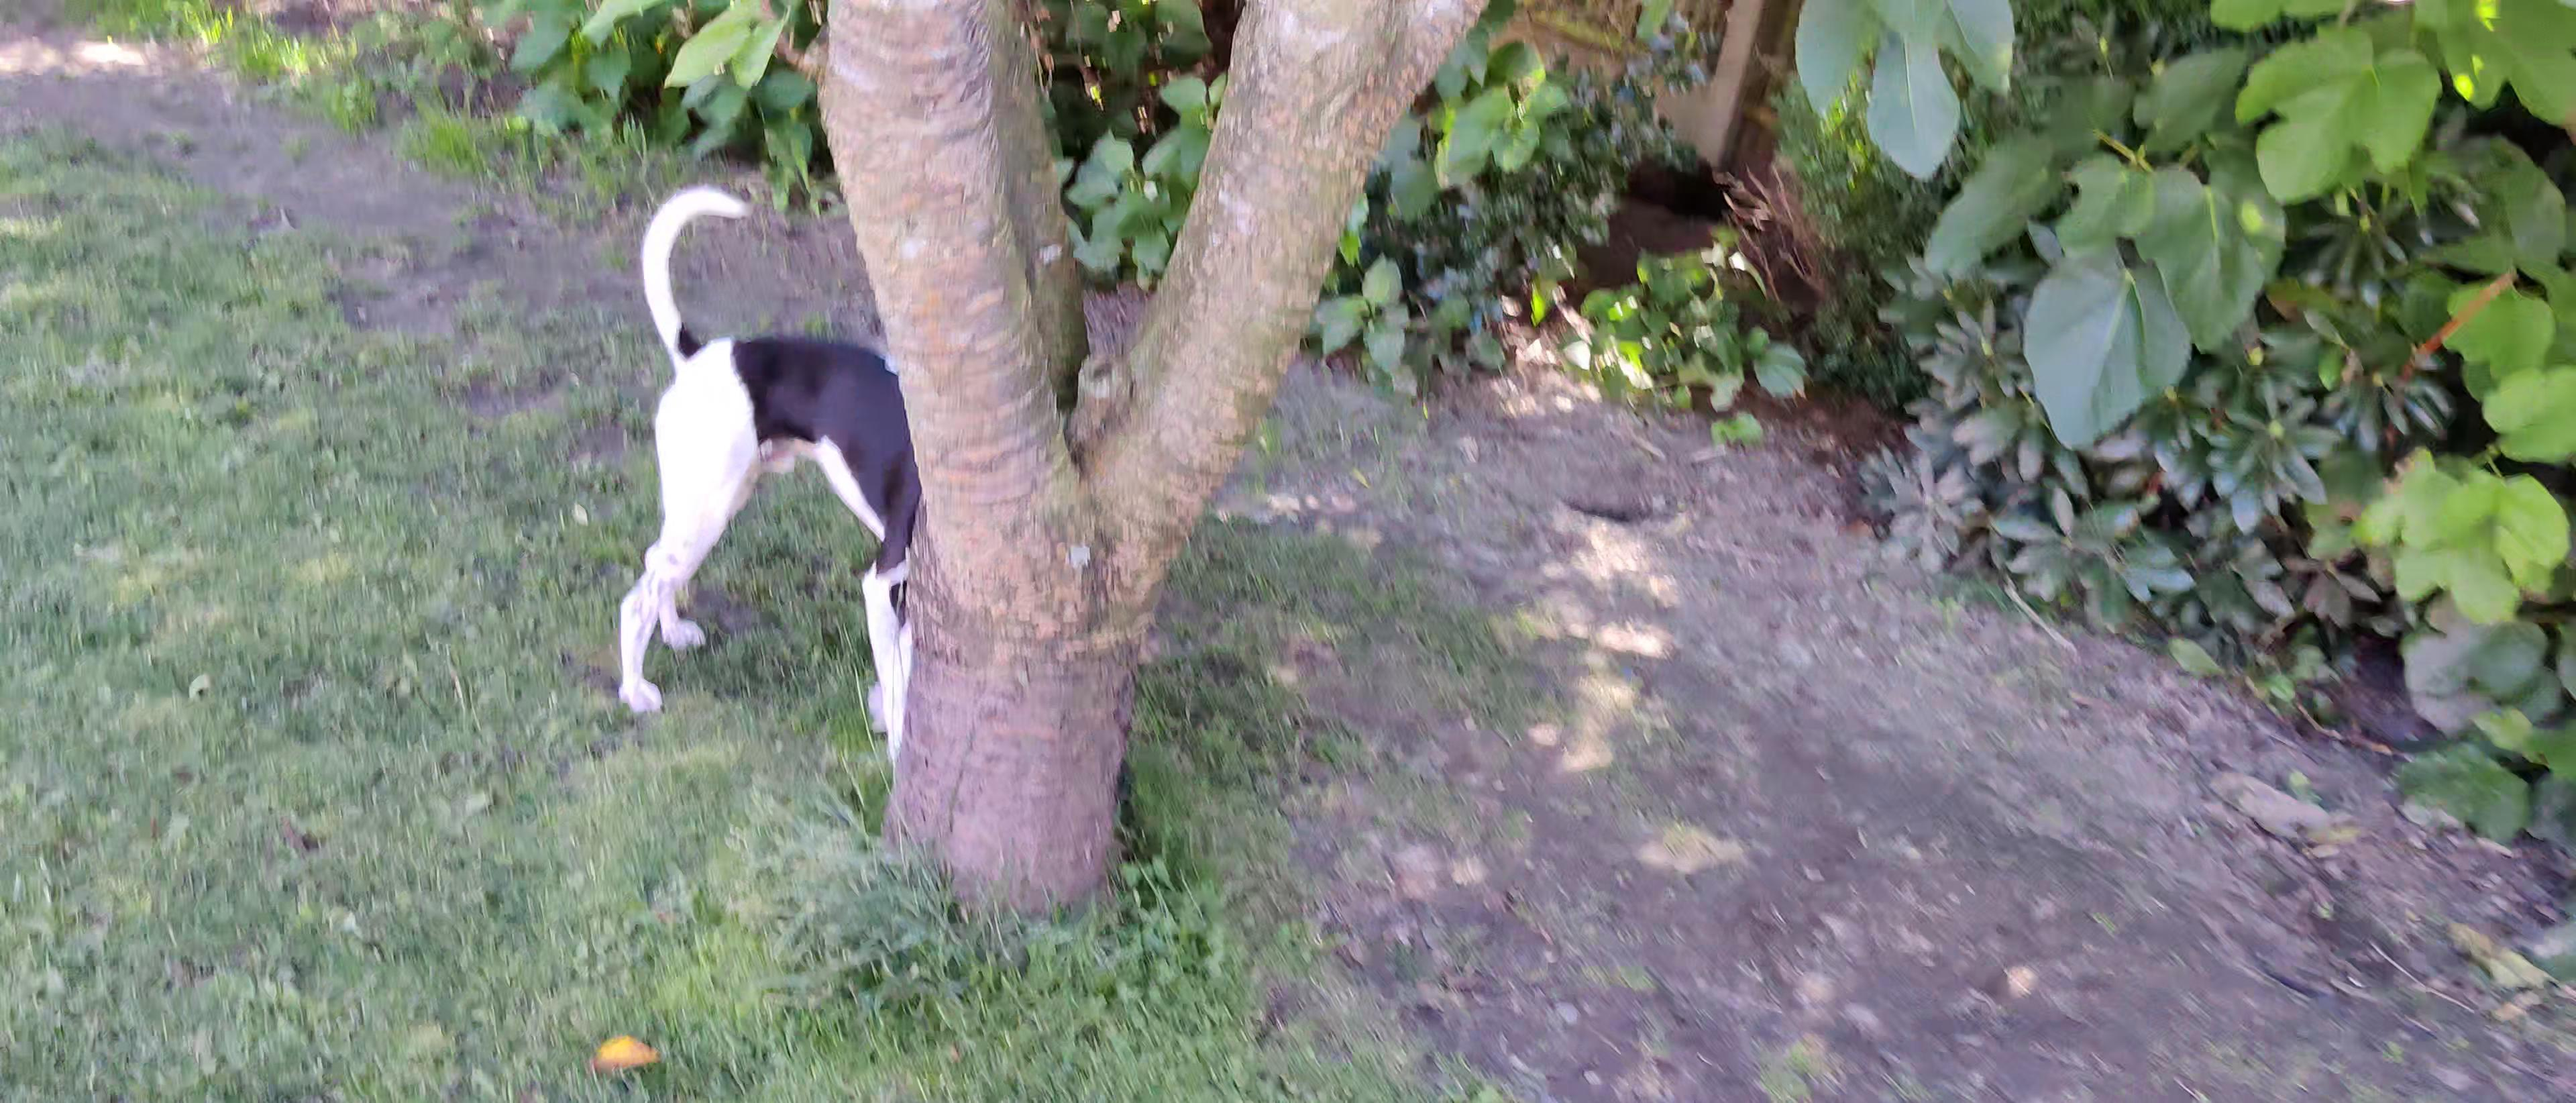Dog: (563, 164, 997, 807)
